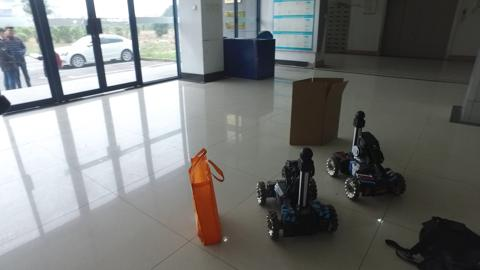bag: (186, 146, 223, 243)
box: (288, 76, 345, 147)
chariot: (254, 145, 342, 243), (329, 114, 407, 201)
